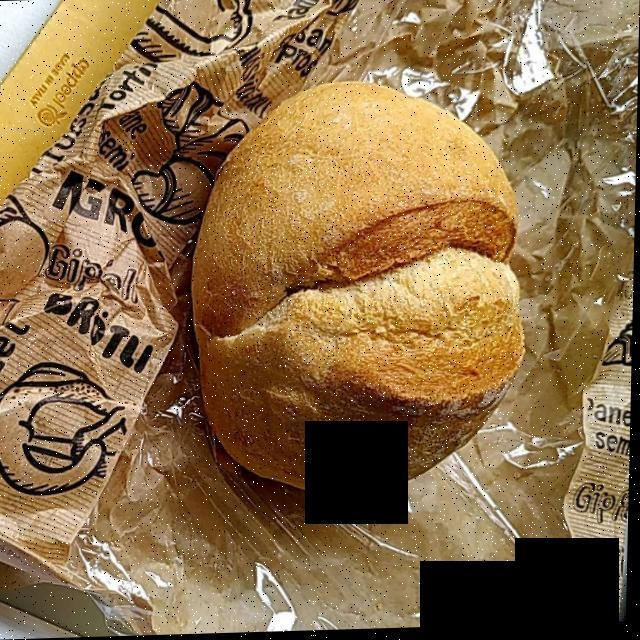bread: (198, 86, 523, 492)
